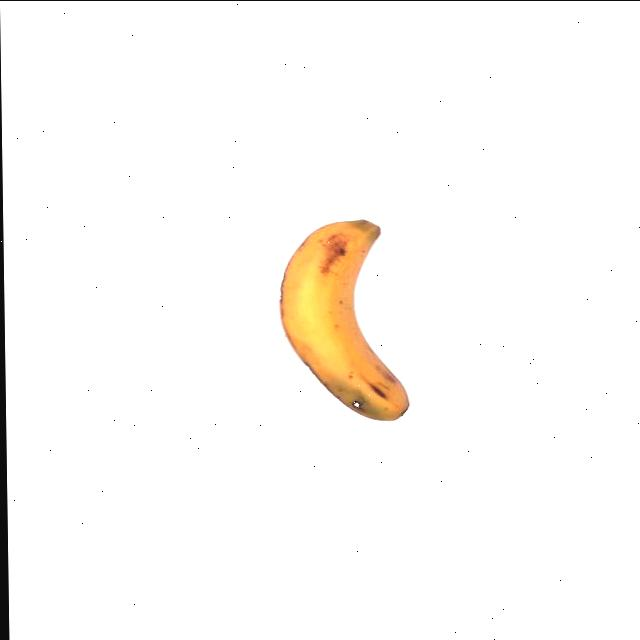banana: (274, 216, 418, 424)
